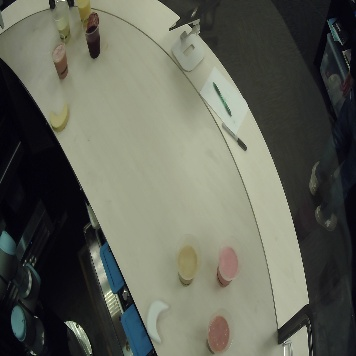full_cup: (176, 233, 203, 287), (215, 240, 242, 289), (205, 308, 231, 354), (49, 32, 67, 78), (82, 13, 100, 59), (53, 1, 71, 41), (75, 1, 92, 29)
puck: (148, 300, 171, 345), (48, 104, 71, 131)
